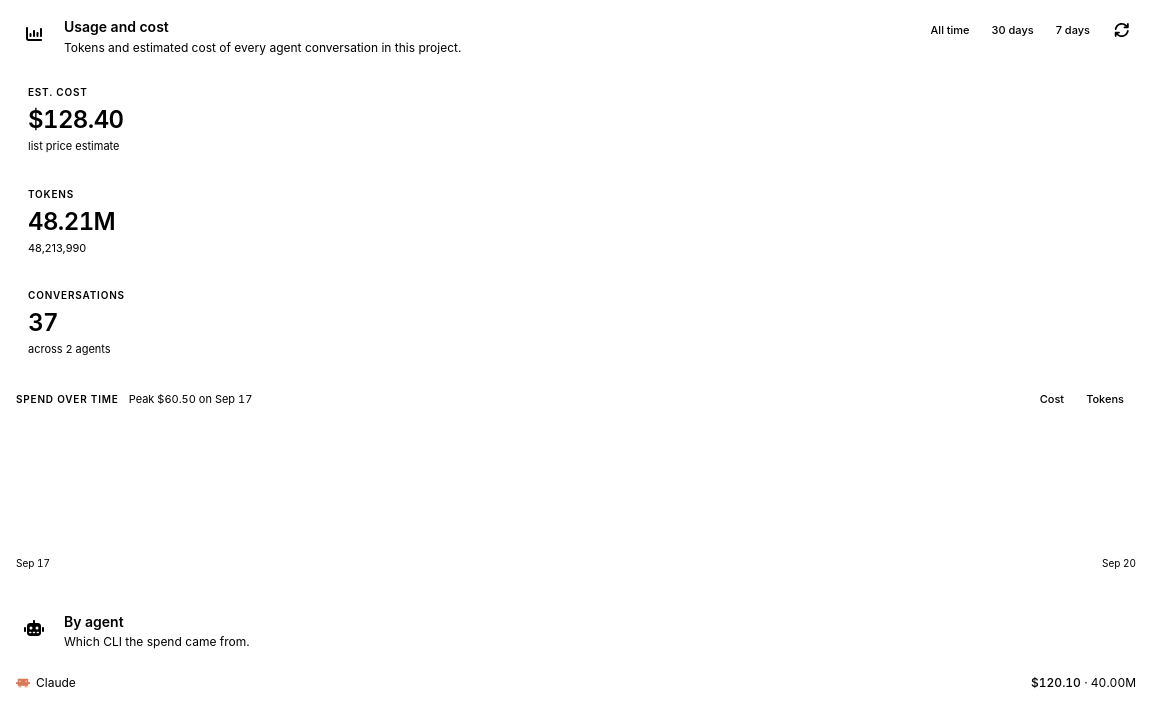
Scenario: ProjectUsageTab period › reads the last 30 or 7 days when asked, and shows that period instead
expect the text "$128.40" is shown: met, box [28,105,124,134]
Click the button "30 days": click(1013, 30) [982,18,1044,42]
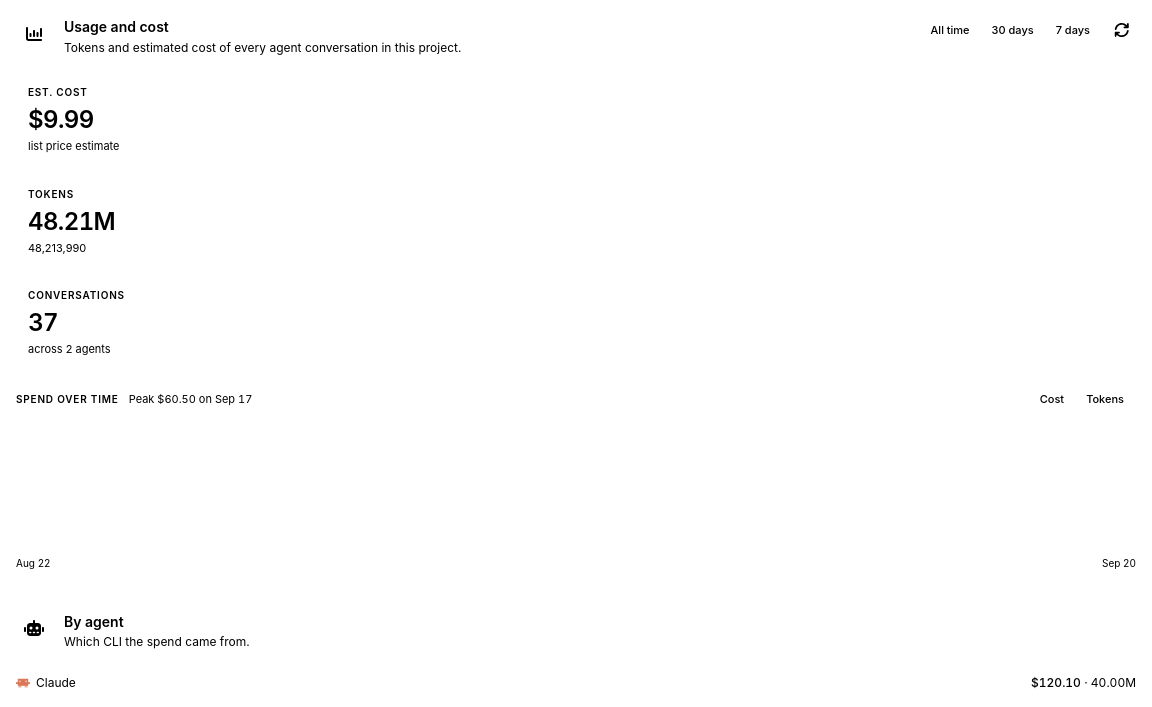
expect the text "$9.99" is shown: met, box [28,105,94,134]
Click the button "7 days": click(1073, 30) [1046,18,1100,42]
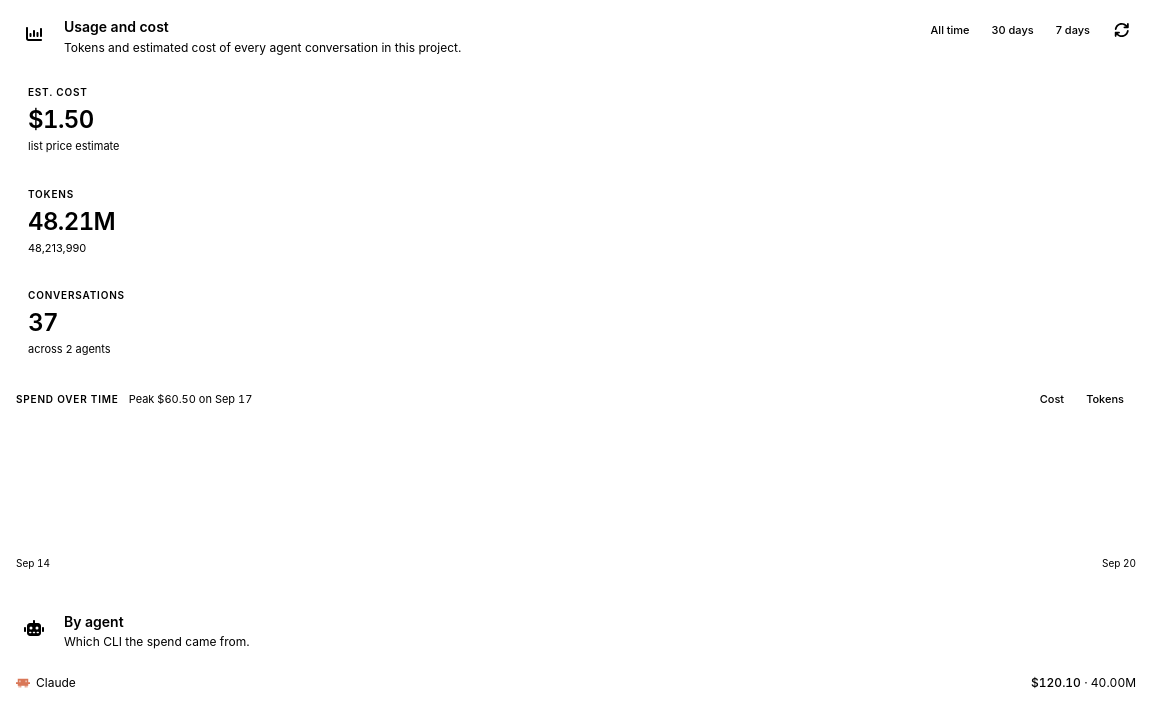
expect the text "$1.50" is shown: met, box [28,105,94,134]
expect the text "$9.99" is gone: met
